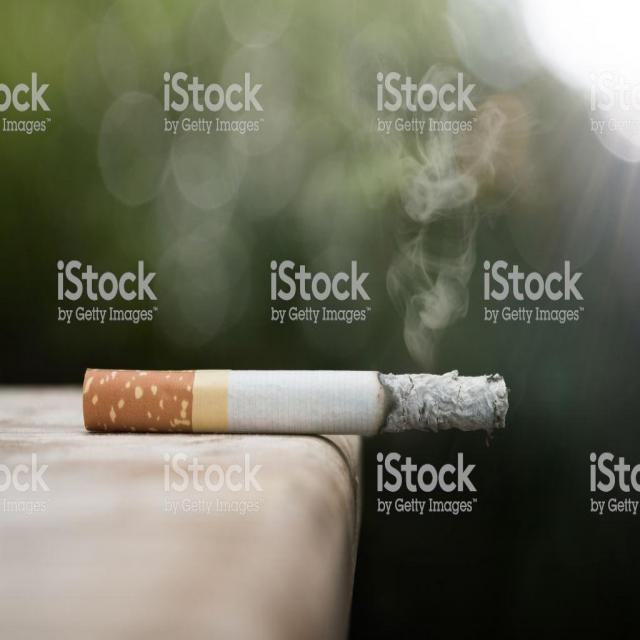cigarette: (80, 364, 510, 442)
